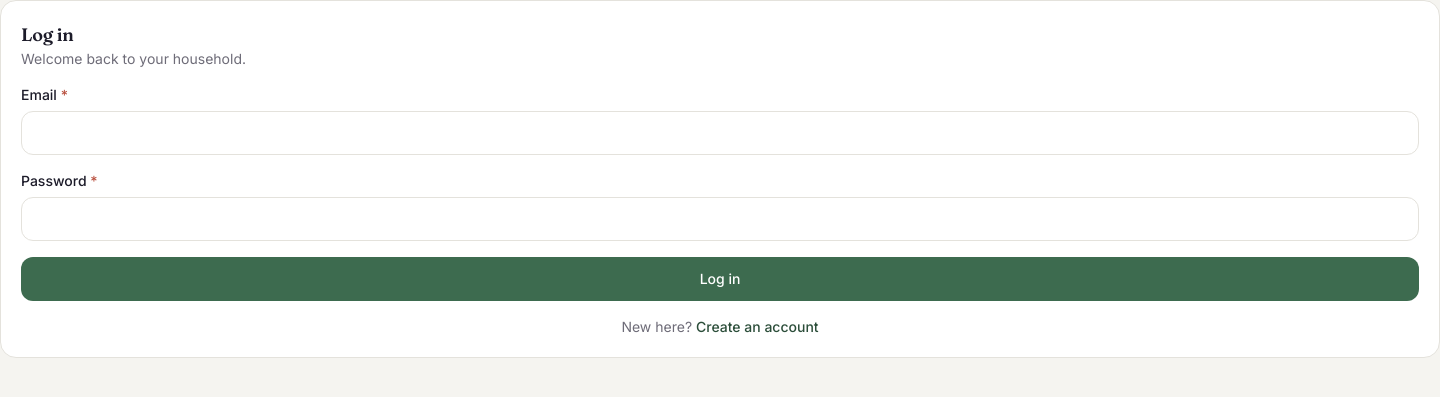
Test: LoginPage › validates invalid email format
Type "not-an-email" into the field labelled "Email *" at (720, 133), box [21,111,1419,155]
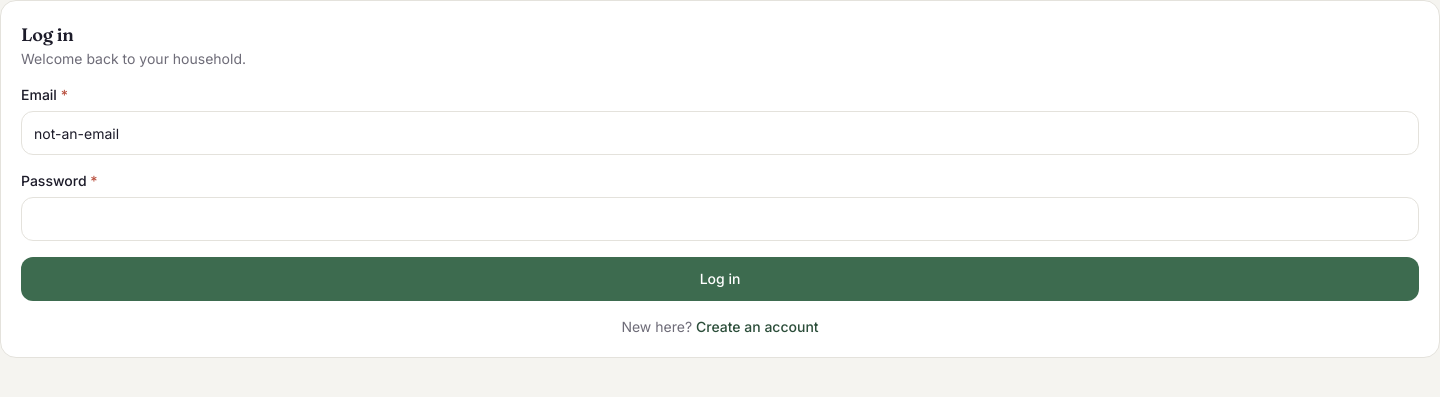
Type "password123" into the password field labelled "Password *" at (720, 219), box [21,197,1419,241]
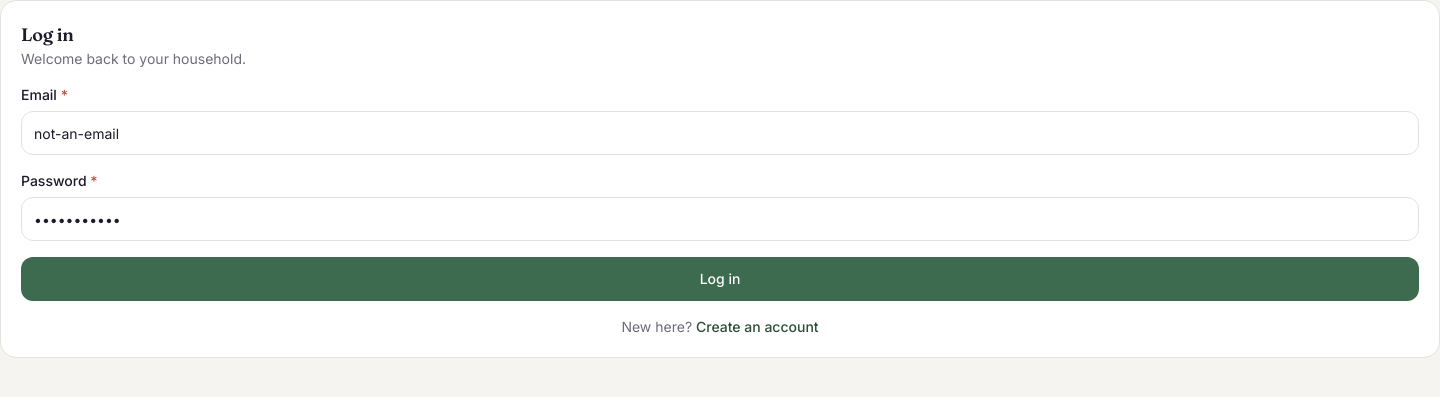
Click the button "Log in" at (720, 279), box [21,257,1419,301]
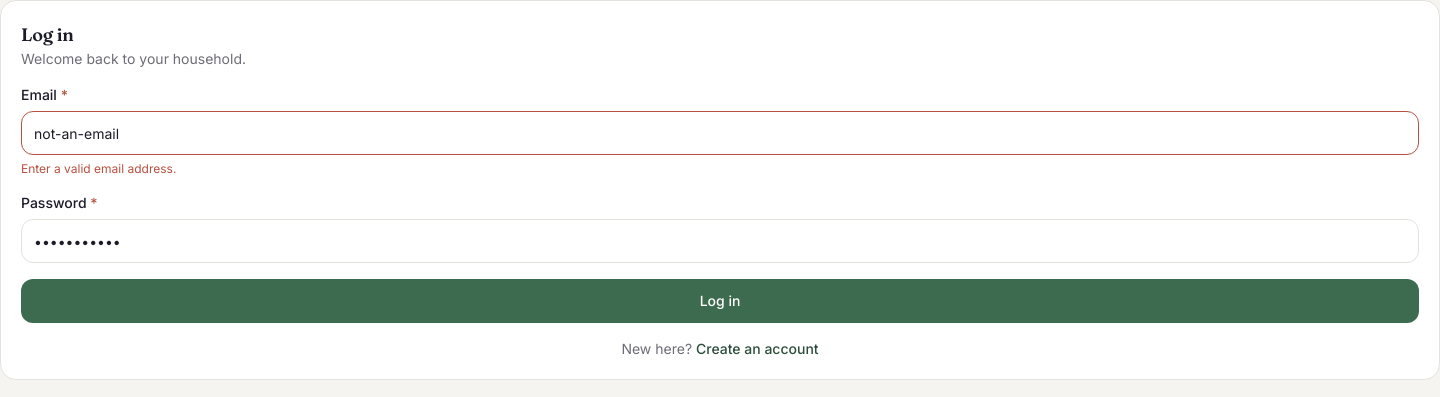
Expected: the text "Enter a valid email address." is shown, [21,161,176,176]
